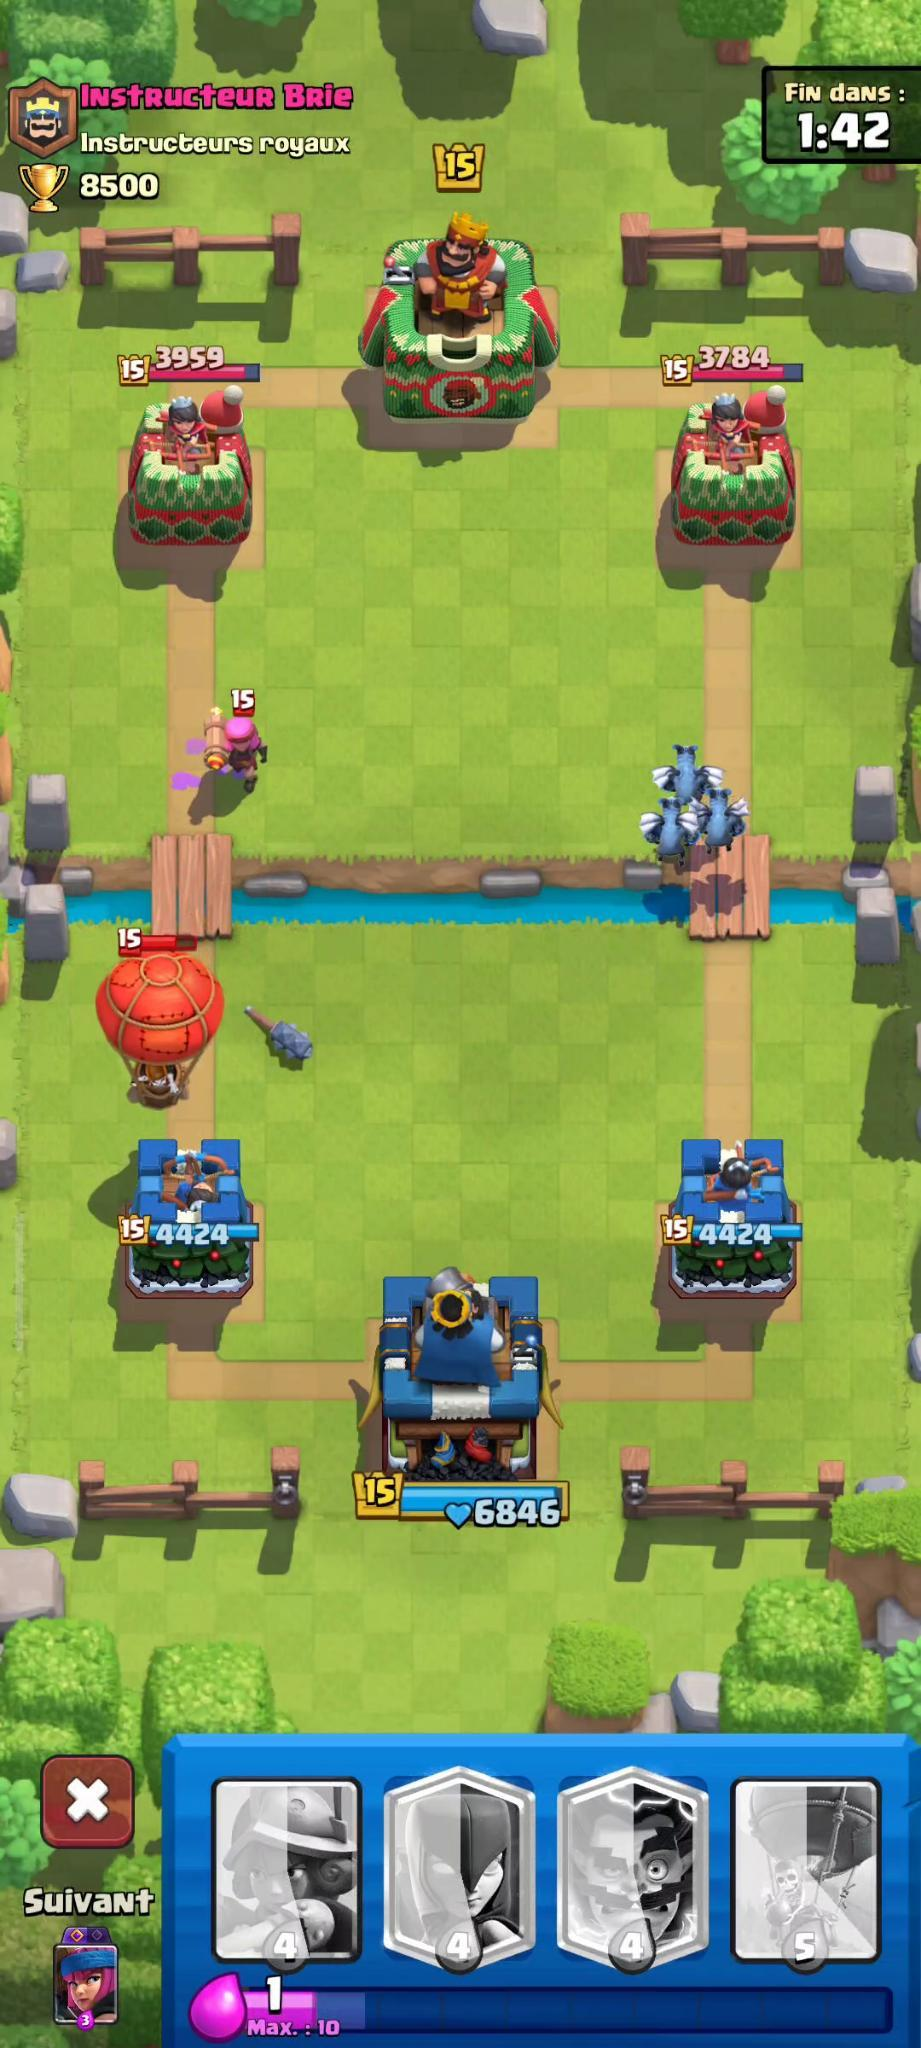enemy_minions: (204, 690, 274, 789)
player_minions: (637, 786, 696, 869), (692, 773, 751, 855), (654, 739, 715, 811)
